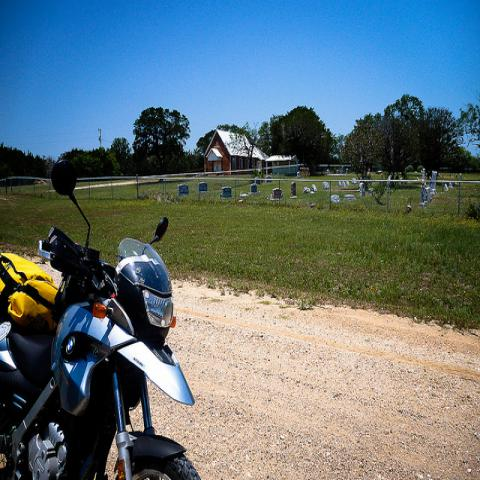motorcycle: (1, 160, 202, 474)
